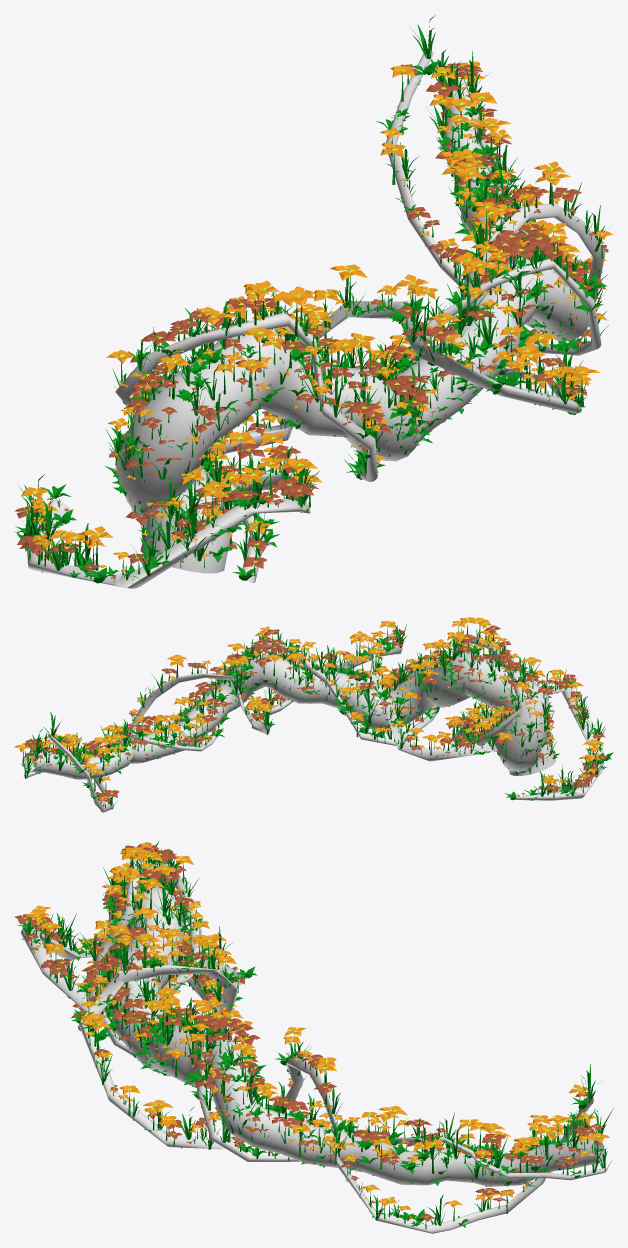
Rendered from Roots_02.fbx.
3 views of the same model, one above another, from view 1: azimuth 30°, elevation 25°; view 2: azimuth 150°, elevation 25°; view 3: azimuth 270°, elevation 25° (orthographic). The views are drawn at different scales.
Parts seen in each view (by area): view 1: BezierCurve, BezierCurve.001, BezierCurve.002; view 2: BezierCurve, BezierCurve.001, BezierCurve.002; view 3: BezierCurve, BezierCurve.001, BezierCurve.002.
Boxes of the visible parts, <box> form: BezierCurve: <box>14,15,613,583</box>; BezierCurve.001: <box>116,79,589,573</box>; BezierCurve.002: <box>27,50,605,588</box>; BezierCurve: <box>14,617,613,811</box>; BezierCurve.001: <box>23,651,555,779</box>; BezierCurve.002: <box>23,634,603,812</box>; BezierCurve: <box>14,841,613,1229</box>; BezierCurve.001: <box>99,883,604,1186</box>; BezierCurve.002: <box>21,862,606,1233</box>.
Bounding box in the file's own units: 514 × 181 × 469.
